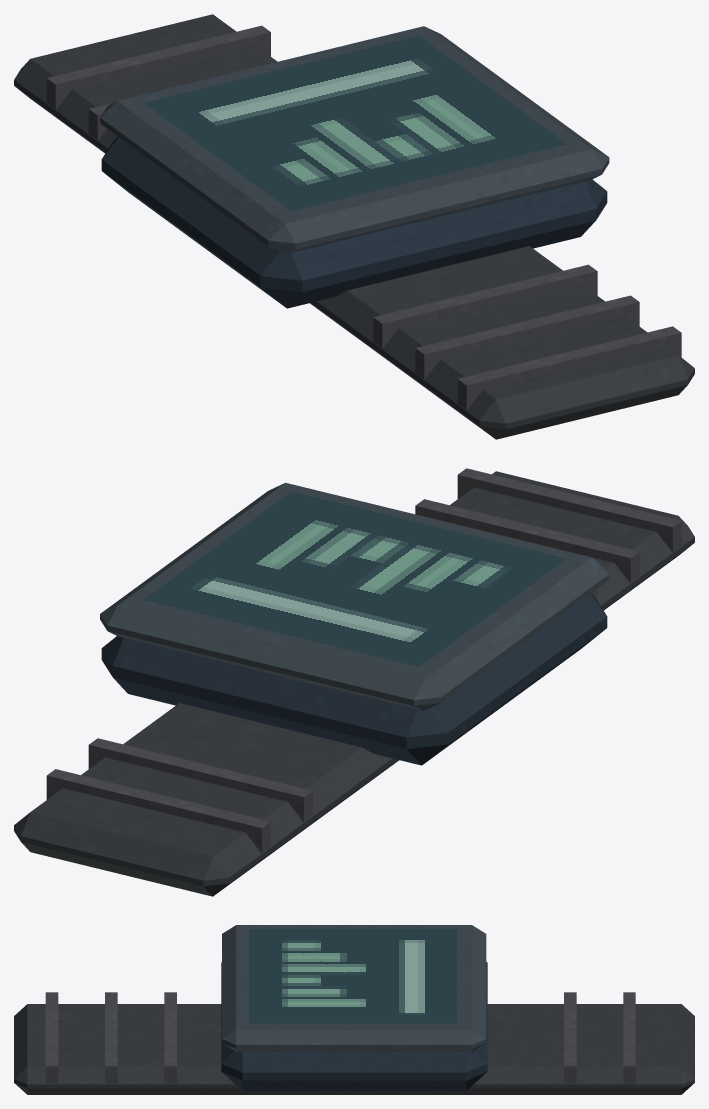
Rendered from smart_watch_adv.glb.
3 renders of one model, top to bottom at view 1: azimuth 30°, elevation 25°; view 2: azimuth 150°, elevation 25°; view 3: azimuth 270°, elevation 25°, orthographic. The views are drawn at different scales.
Parts seen in each view (by area): view 1: block_wrist strap, block_advanced touchscreen, block_raised protective display rim, block_rectangular screen, block_bracelet segment (×4); view 2: block_wrist strap, block_advanced touchscreen, block_raised protective display rim, block_rectangular screen, block_bracelet segment (×4); view 3: block_wrist strap, block_advanced touchscreen, block_raised protective display rim, block_rectangular screen, block_bracelet segment (×5).
Boxes of the visible parts, x1,y1,x2,y2 form: block_wrist strap: (14, 14, 694, 439); block_advanced touchscreen: (144, 36, 566, 211); block_raised protective display rim: (100, 26, 609, 254); block_rectangular screen: (101, 136, 607, 308); block_bracelet segment (×4): (46, 25, 681, 409); block_wrist strap: (14, 471, 694, 896); block_advanced touchscreen: (144, 491, 566, 666); block_raised protective display rim: (100, 482, 609, 710); block_rectangular screen: (101, 593, 607, 765); block_bracelet segment (×4): (46, 468, 681, 852); block_wrist strap: (14, 1004, 694, 1094); block_advanced touchscreen: (249, 929, 457, 1023); block_raised protective display rim: (222, 925, 486, 1051); block_rectangular screen: (221, 962, 487, 1090); block_bracelet segment (×5): (45, 992, 635, 1083).
Bounding box in the file's own units: 0.0593 × 0.0203 × 0.1435.
Materials: 1 (1 with a texture image).
